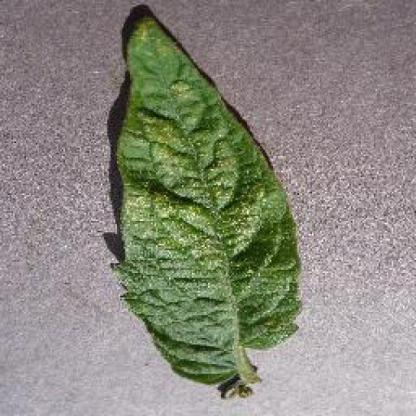Tomato_Spider_Mites: (118, 19, 302, 384)
